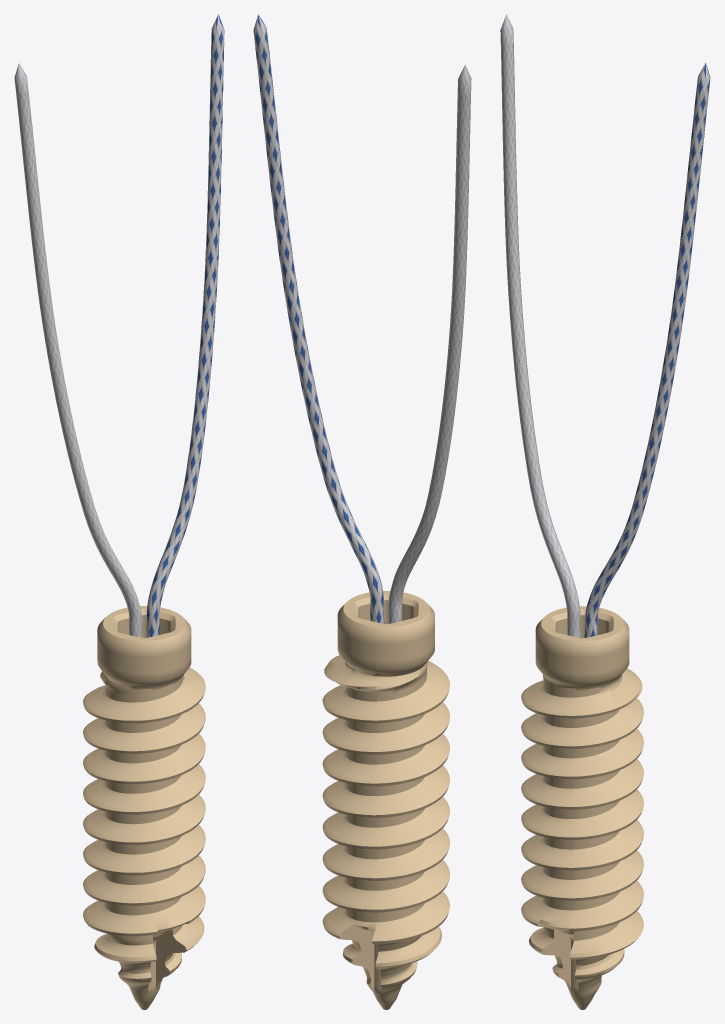
File: s8_speedloc_peek_5p5x19_lod0.glb
3 renders of one model, left to right at view 1: azimuth 30°, elevation 25°; view 2: azimuth 150°, elevation 25°; view 3: azimuth 330°, elevation 25°, orthographic. The views are drawn at different scales.
Parts seen in each view (by area): view 1: s8_speedloc_peek_5p5x19; view 2: s8_speedloc_peek_5p5x19; view 3: s8_speedloc_peek_5p5x19.
Boxes of the visible parts, x1,y1,x2,y2 form: s8_speedloc_peek_5p5x19: (14, 14, 224, 1009); s8_speedloc_peek_5p5x19: (253, 14, 471, 1009); s8_speedloc_peek_5p5x19: (500, 14, 710, 1009).
Bounding box in the file's own units: 0.0108 × 0.047 × 0.0055.
3 materials, 2 textured.
